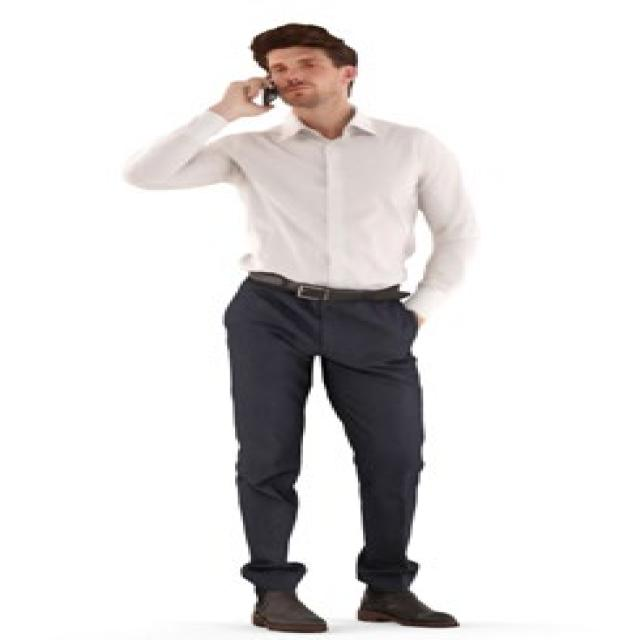standing: (122, 22, 480, 633)
